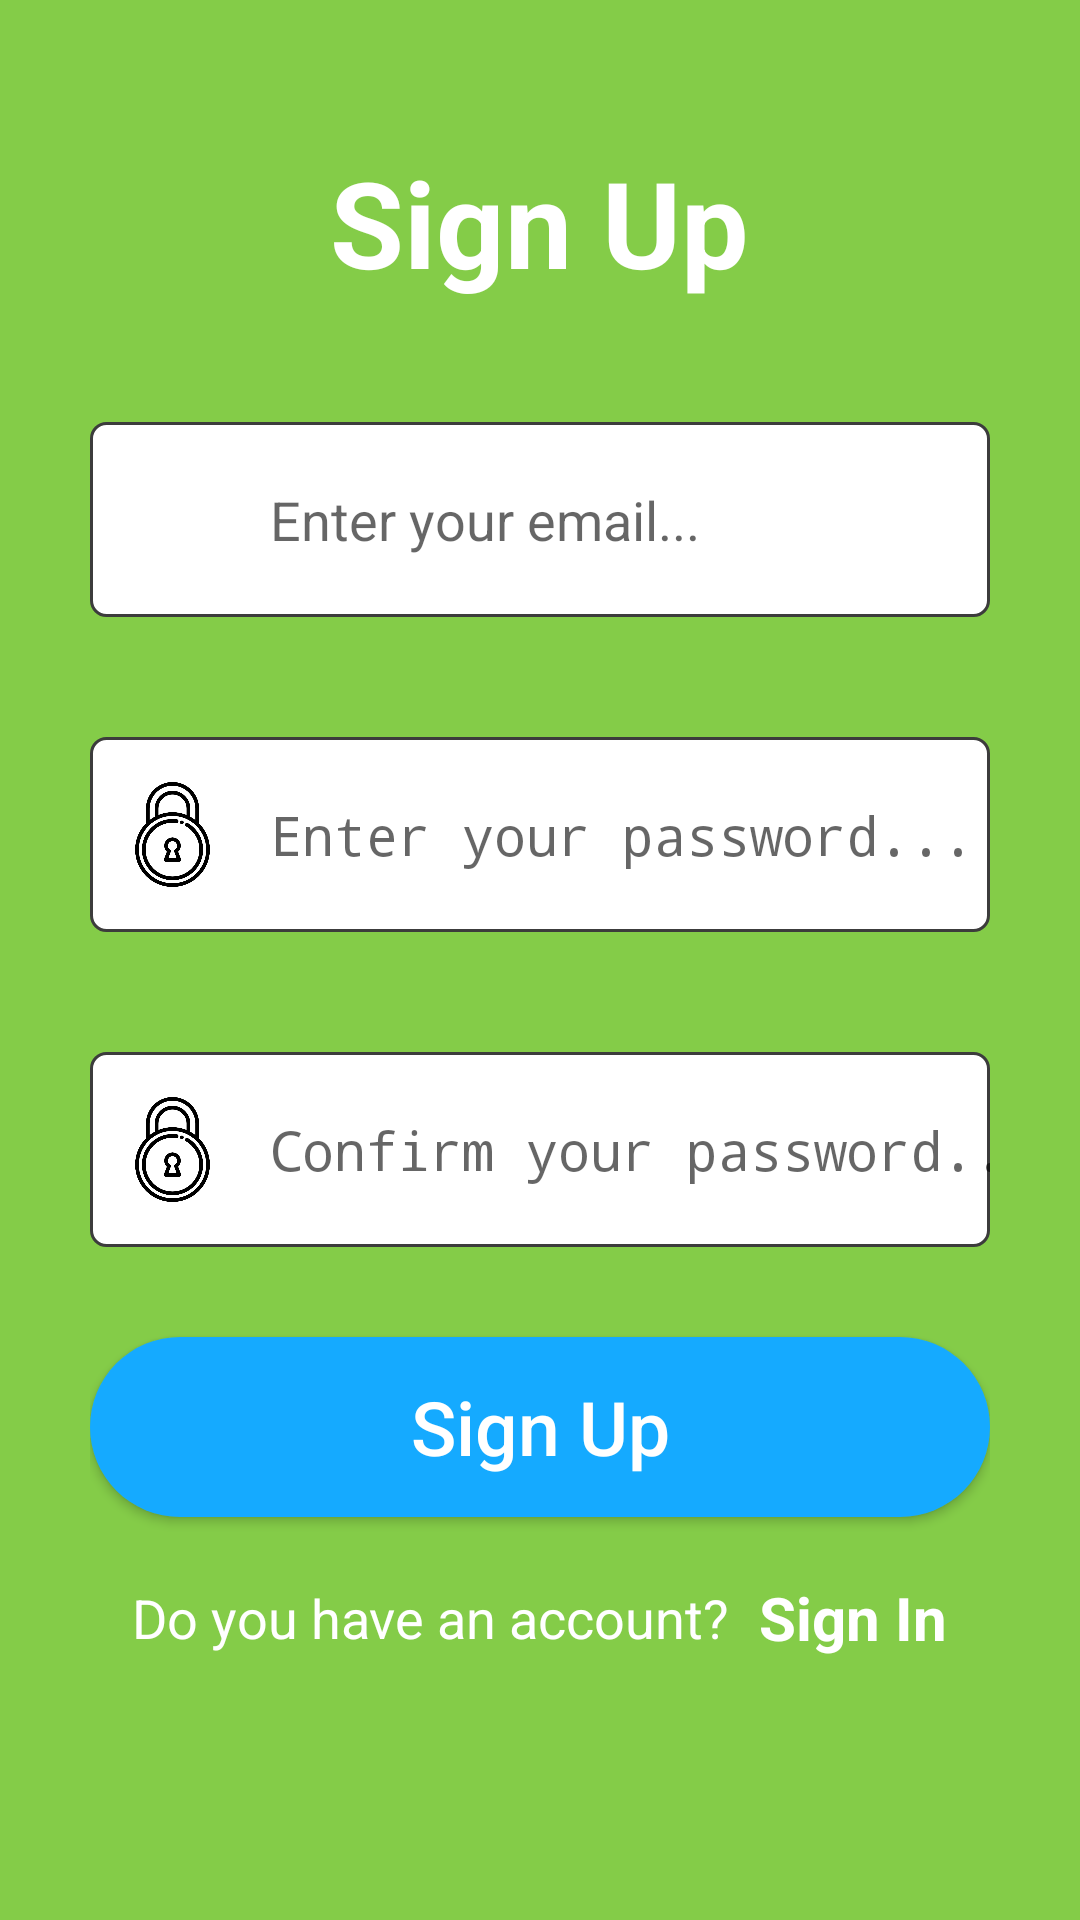

Icon click points for this 1080px x 1920px phone screenshot, format (x=x, y=y):
padlock: (x=172, y=834), (x=172, y=1149)
